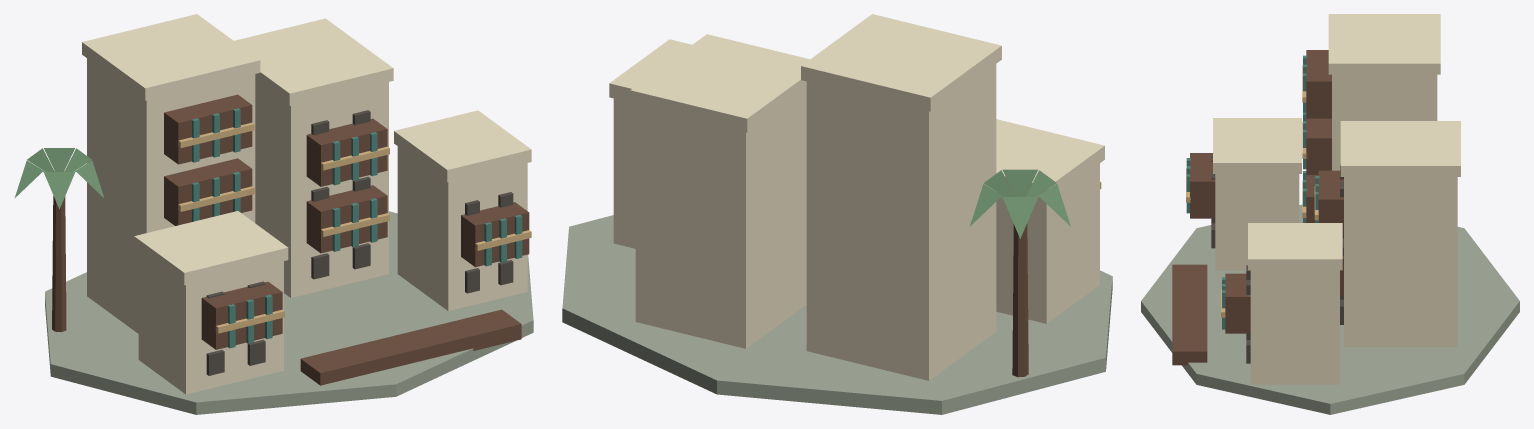
Rendered from jeddah.glb.
The picture shows the model from 3 angles, left to right: view 1: azimuth 30°, elevation 25°; view 2: azimuth 150°, elevation 25°; view 3: azimuth 270°, elevation 25°; orthographic projection. The views are drawn at different scales.
Visible parts, largest first — view 1: jeddah_cream, jeddah_stone, jeddah_dark_wood, jeddah_teal, jeddah_deep_shadow, jeddah_sandstone, jeddah_foliage; view 2: jeddah_cream, jeddah_stone, jeddah_foliage, jeddah_dark_wood; view 3: jeddah_cream, jeddah_stone, jeddah_dark_wood, jeddah_teal, jeddah_deep_shadow, jeddah_sandstone.
Part boxes in pixels (x1=…): jeddah_cream: x1=82, y1=14, x2=531, y2=394; jeddah_stone: x1=45, y1=211, x2=533, y2=414; jeddah_dark_wood: x1=52, y1=94, x2=529, y2=385; jeddah_teal: x1=192, y1=108, x2=522, y2=348; jeddah_deep_shadow: x1=170, y1=110, x2=513, y2=375; jeddah_sandstone: x1=178, y1=122, x2=531, y2=333; jeddah_foliage: x1=15, y1=148, x2=103, y2=209; jeddah_cream: x1=609, y1=14, x2=1104, y2=380; jeddah_stone: x1=562, y1=215, x2=1112, y2=414; jeddah_foliage: x1=970, y1=169, x2=1070, y2=238; jeddah_dark_wood: x1=1012, y1=223, x2=1028, y2=377; jeddah_cream: x1=1213, y1=14, x2=1460, y2=384; jeddah_stone: x1=1141, y1=204, x2=1519, y2=414; jeddah_dark_wood: x1=1172, y1=50, x2=1343, y2=365; jeddah_teal: x1=1186, y1=55, x2=1319, y2=329; jeddah_deep_shadow: x1=1211, y1=128, x2=1343, y2=363; jeddah_sandstone: x1=1186, y1=65, x2=1318, y2=317.
Size of the model in its own units: 2.1 by 1.11 by 1.62.
